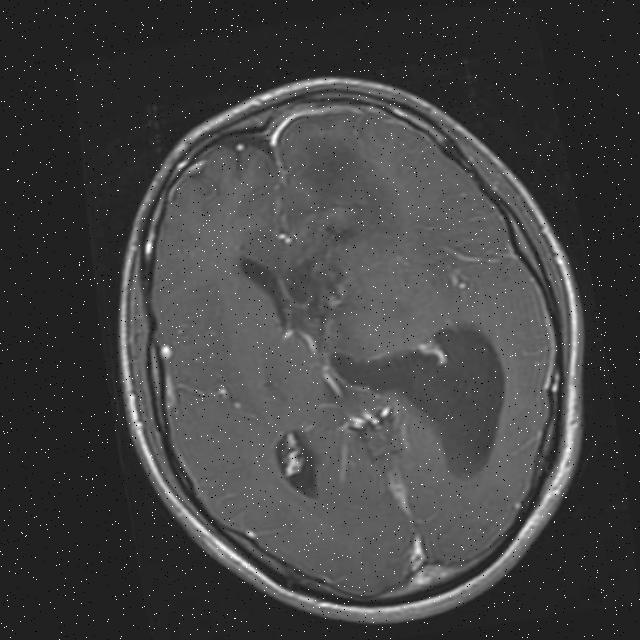Glioma: (268, 203, 377, 349)
